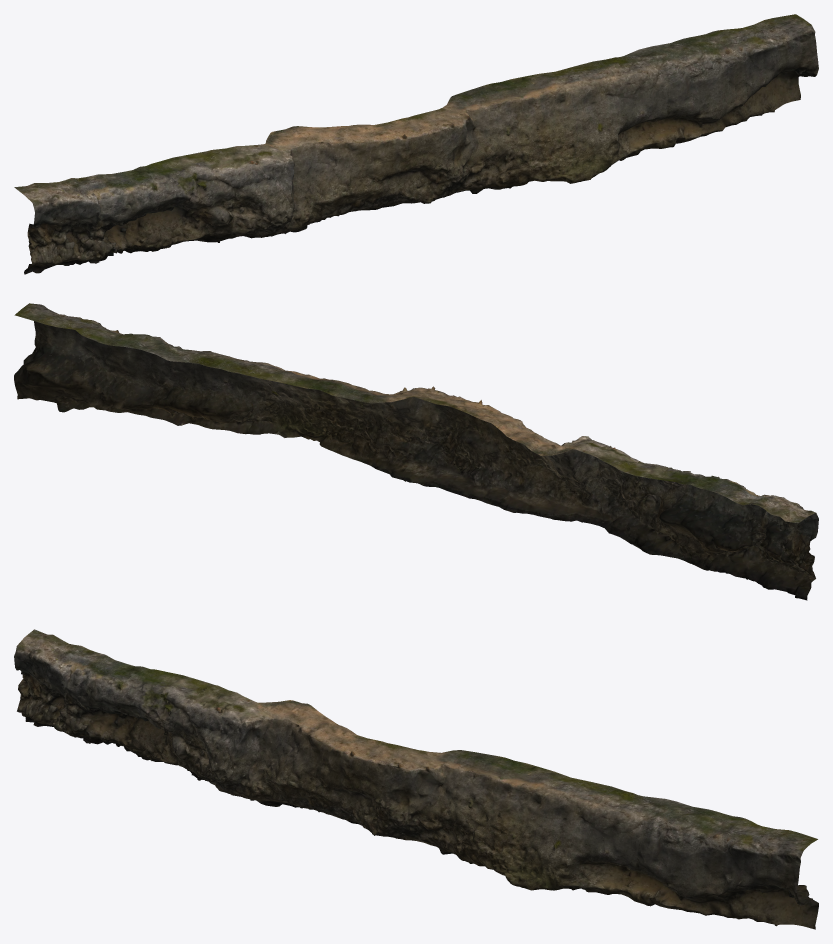
The model's file is coastal_cliff_01.glb.
The picture shows the model from 3 angles, top to bottom: view 1: azimuth 30°, elevation 25°; view 2: azimuth 150°, elevation 25°; view 3: azimuth 330°, elevation 25°; orthographic projection. The views are drawn at different scales.
Parts seen in each view (by area): view 1: coastal_cliff_01; view 2: coastal_cliff_01; view 3: coastal_cliff_01.
Part boxes in pixels (x1,y1,x2,y2): coastal_cliff_01: (14,14,818,274); coastal_cliff_01: (14,303,818,600); coastal_cliff_01: (14,629,818,929).
Size of the model in its own units: 91.94 by 10.31 by 10.97.
Materials: 1 (1 with a texture image).
